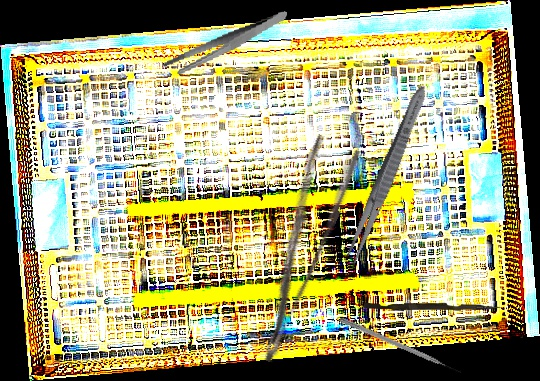Dressing Forceps: (227, 133, 366, 365), (341, 83, 432, 270), (158, 10, 294, 77)
Pusher: (339, 316, 462, 377), (363, 300, 502, 313)
